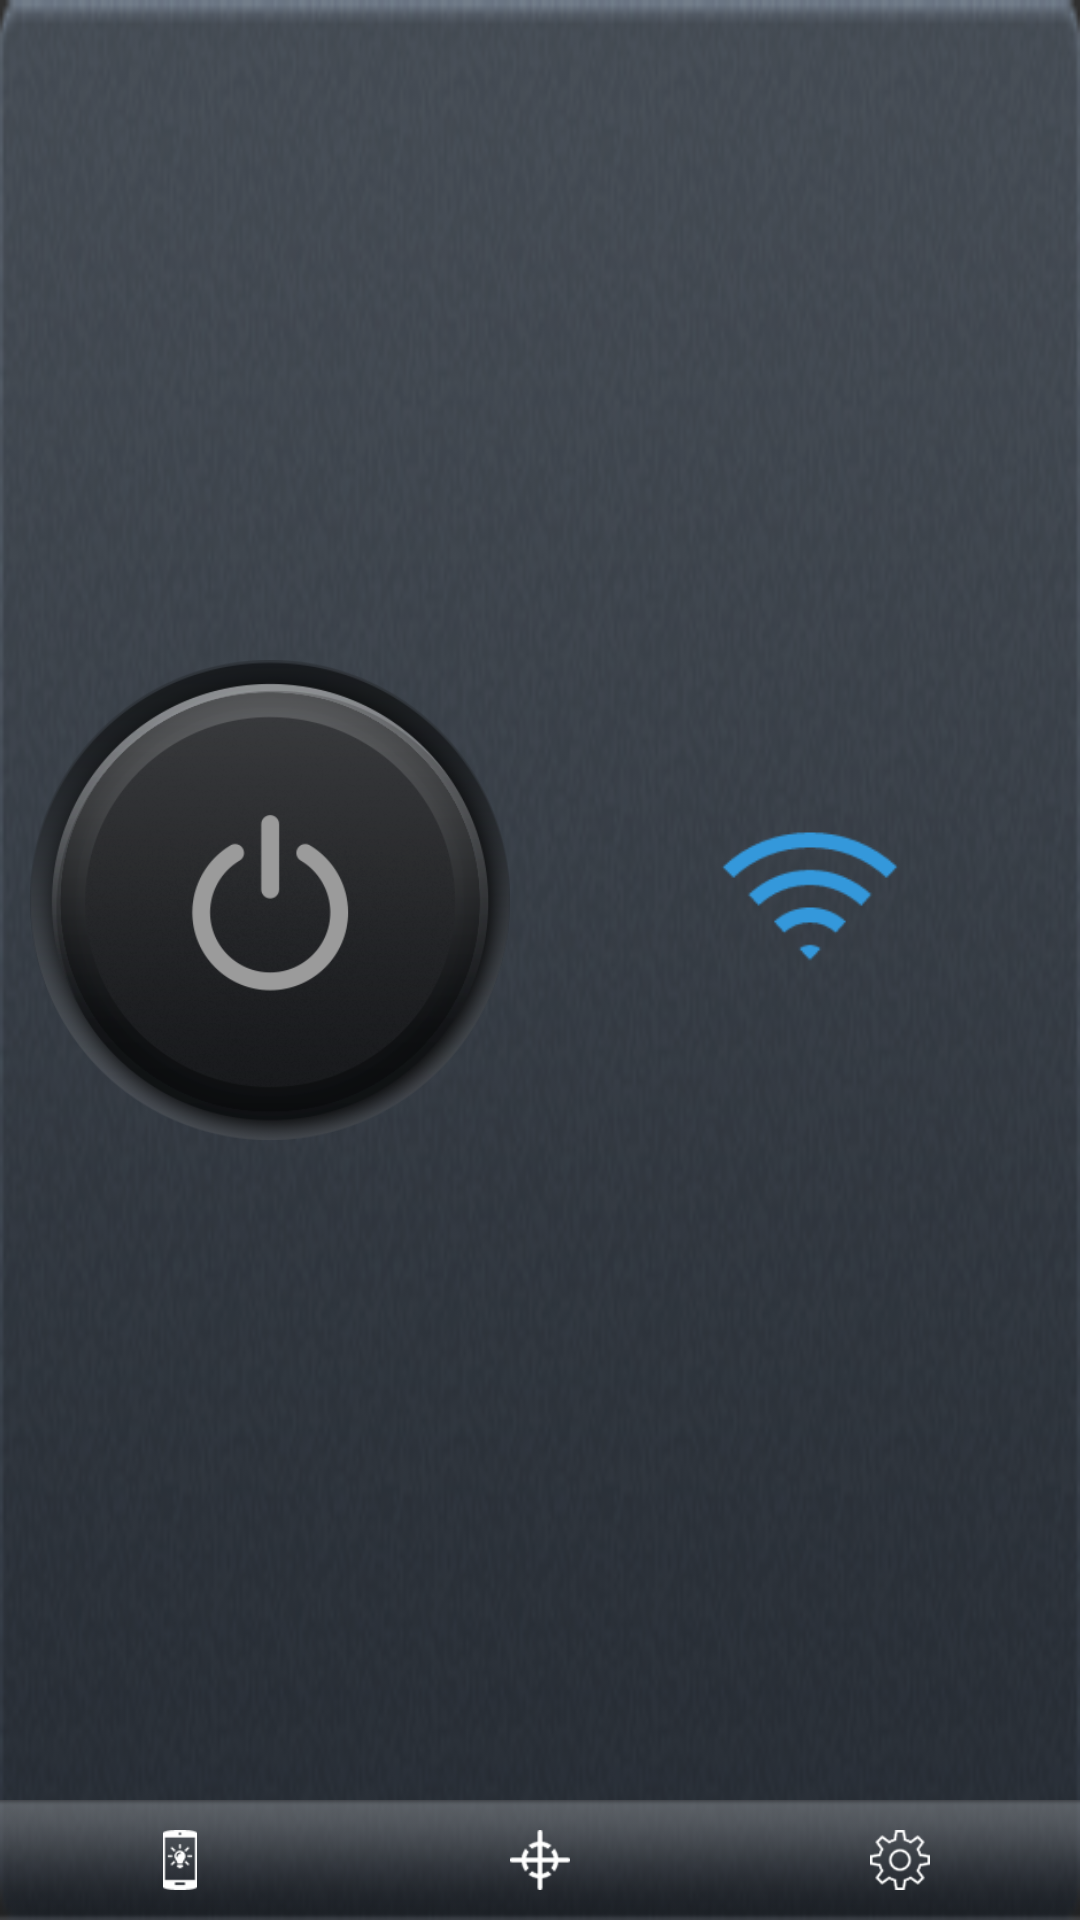

Named icons in this screenshot (1080w x 1920h) and their centers, (x,y):
screenlight widget: (180,1860)
wifi: (810,896)
